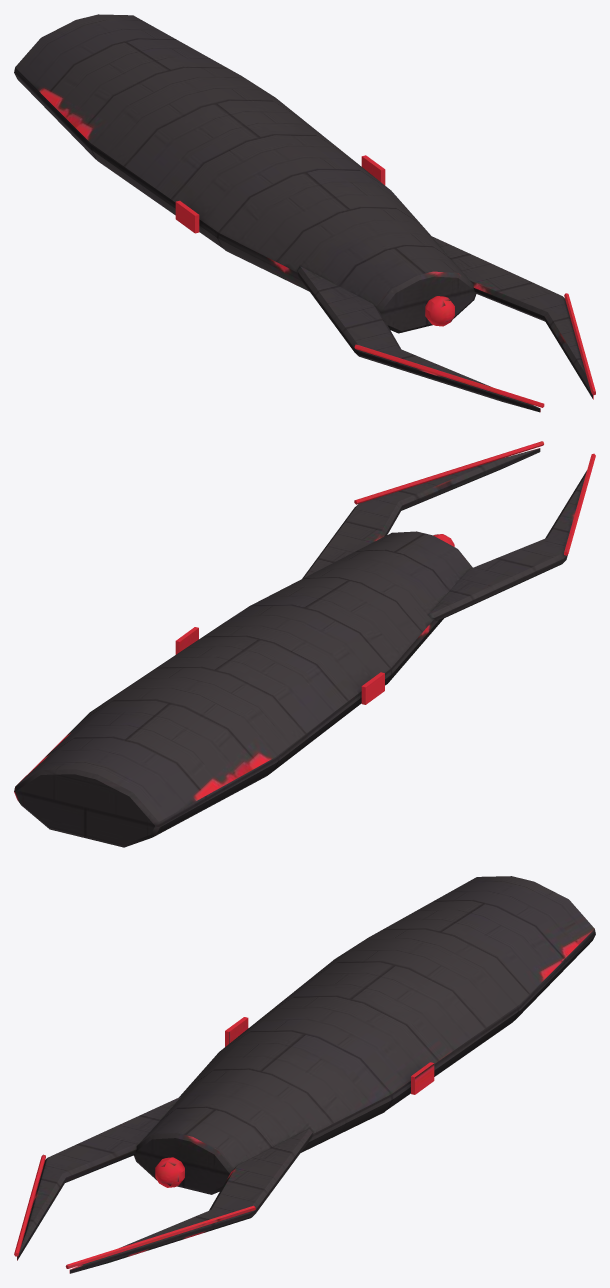
File: vorrakai_craft.glb
The picture shows the model from 3 angles, top to bottom: view 1: azimuth 30°, elevation 25°; view 2: azimuth 150°, elevation 25°; view 3: azimuth 330°, elevation 25°; orthographic projection.
Visible parts, largest first — view 1: HULL, SYS_REACTOR, SYS_WPN1; view 2: HULL, SYS_REACTOR; view 3: HULL, SYS_REACTOR, SYS_WPN1.
Boxes of the visible parts, x1=… form: HULL: x1=14, y1=14, x2=595, y2=412; SYS_REACTOR: x1=175, y1=155, x2=385, y2=233; SYS_WPN1: x1=425, y1=296, x2=454, y2=326; HULL: x1=14, y1=441, x2=595, y2=847; SYS_REACTOR: x1=175, y1=627, x2=384, y2=704; HULL: x1=14, y1=876, x2=595, y2=1273; SYS_REACTOR: x1=225, y1=1017, x2=434, y2=1094; SYS_WPN1: x1=155, y1=1157, x2=184, y2=1187.
Bounding box in the file's own units: 1.34 × 0.5016 × 5.23.
Materials: 1 (1 with a texture image).
